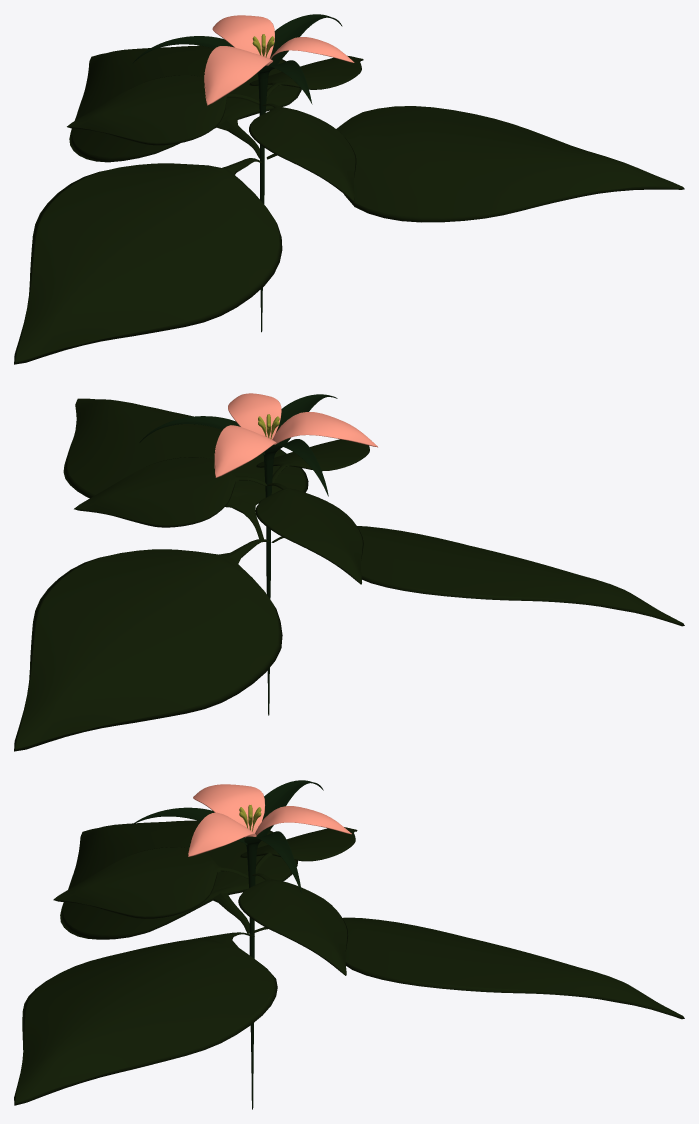
The model's file is Platform_Trillium.FBX.
3 views of the same model, one above another, from view 1: azimuth 30°, elevation 25°; view 2: azimuth 150°, elevation 25°; view 3: azimuth 270°, elevation 25° (orthographic). The views are drawn at different scales.
Visible parts, largest first — view 1: Object014; view 2: Object014; view 3: Object014.
Boxes of the visible parts, left/top/right/bottom form: Object014: left=14, top=14, right=684, bottom=364; Object014: left=14, top=393, right=684, bottom=751; Object014: left=14, top=780, right=684, bottom=1109.
Bounding box in the file's own units: 381 × 169 × 340.
